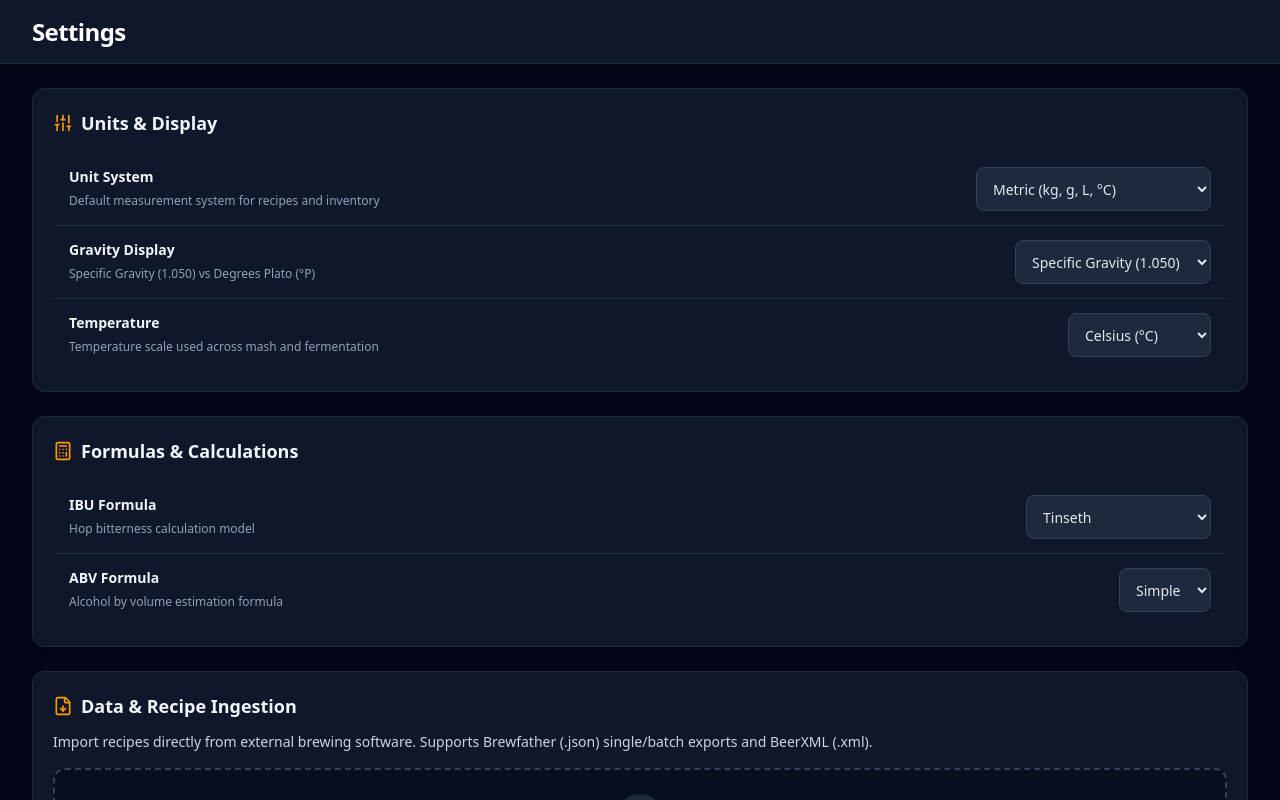
Test: AC-8: loading and error states apply the frozen state-convention classes › a save-error banner applies ERROR_STATE_CLASS as its base
The image size is (1280, 800).
Step 1. Select "Degrees Plato (12.4 °P)" in the dropdown with test id "settings-select-gravityUnit" → (1113, 262), box [1015, 240, 1211, 284]
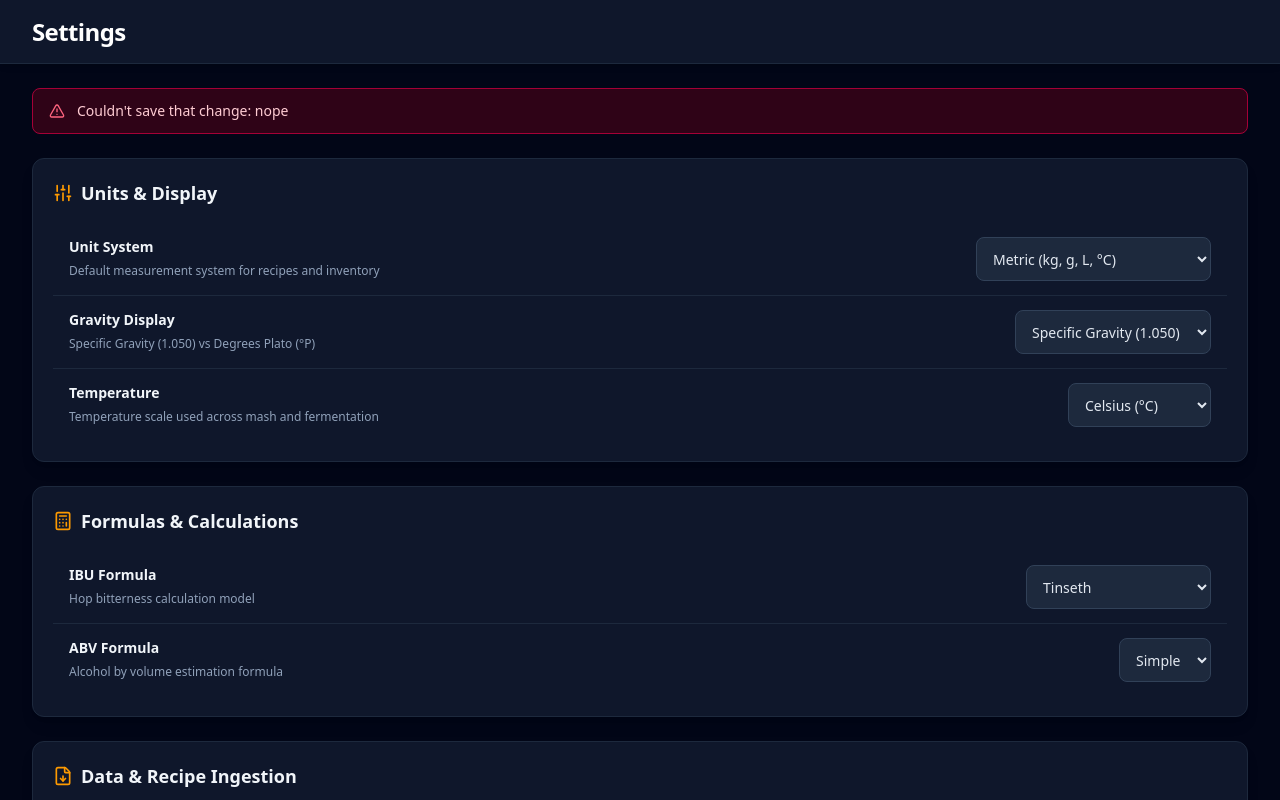
Expected: the text "Couldn't save that change: nope" is shown, [32, 88, 1248, 134]
